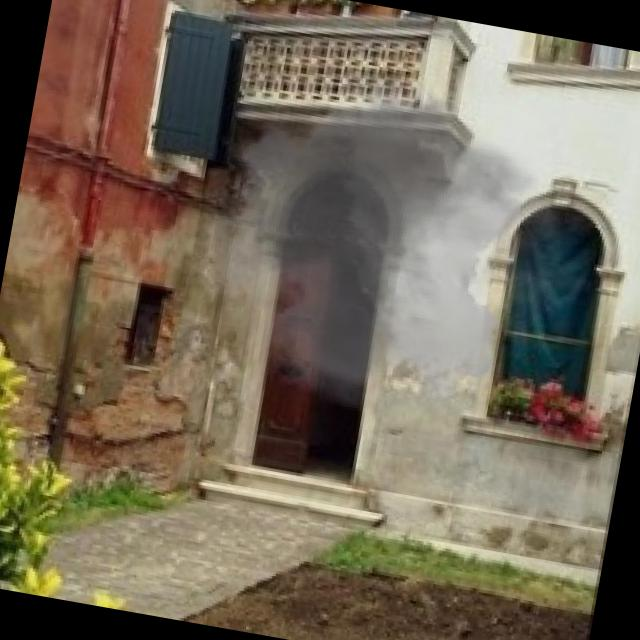Smoke: (156, 32, 625, 447)
